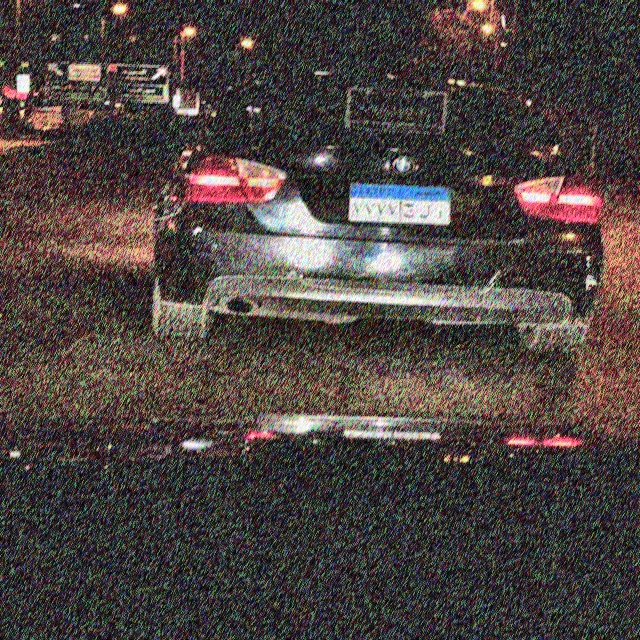License Plate: (344, 180, 454, 227)
